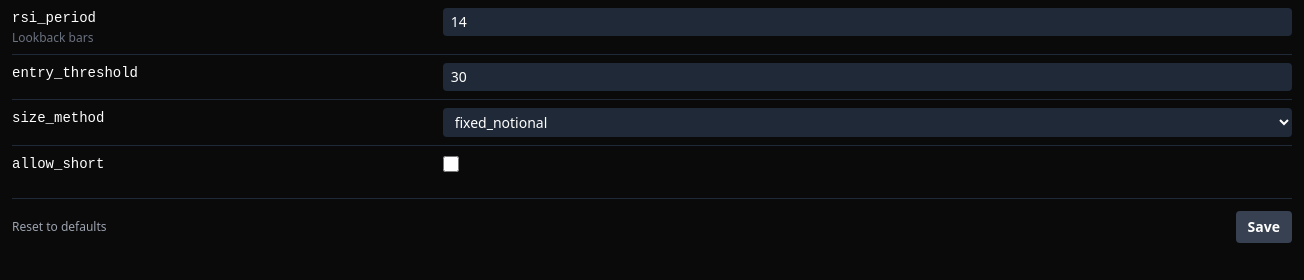
Scenario: ParamForm › blocks Save with 'Must be one of' when enum value isn't in the choices
The width and height of the screenshot is (1304, 280).
Replace the text in the number field showing "14" in the row of "rsi_period" with "21": (867, 22) x1=443 y1=8 x2=1292 y2=36
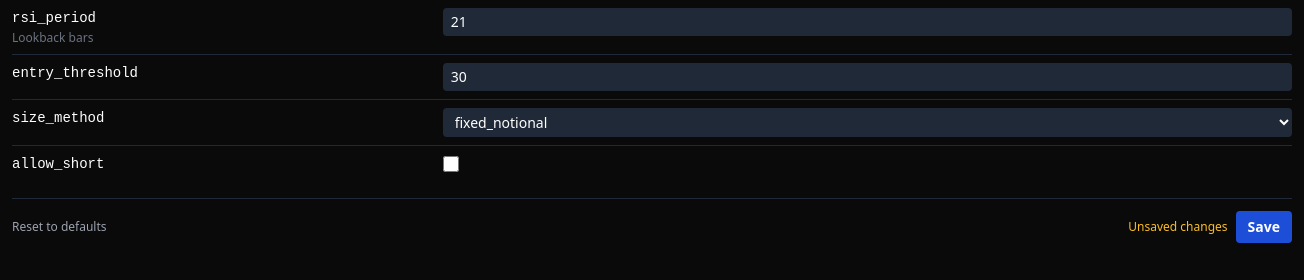
Click the button "Save": click(1264, 227) x1=1236 y1=211 x2=1292 y2=243
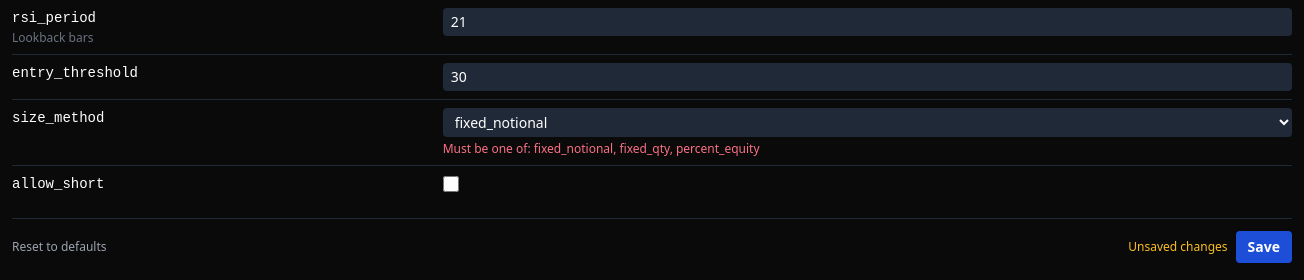
Now the text "Must be one of: fixed_notional, fixed_qty, percent_equity" is shown, box x1=443 y1=140 x2=760 y2=157
